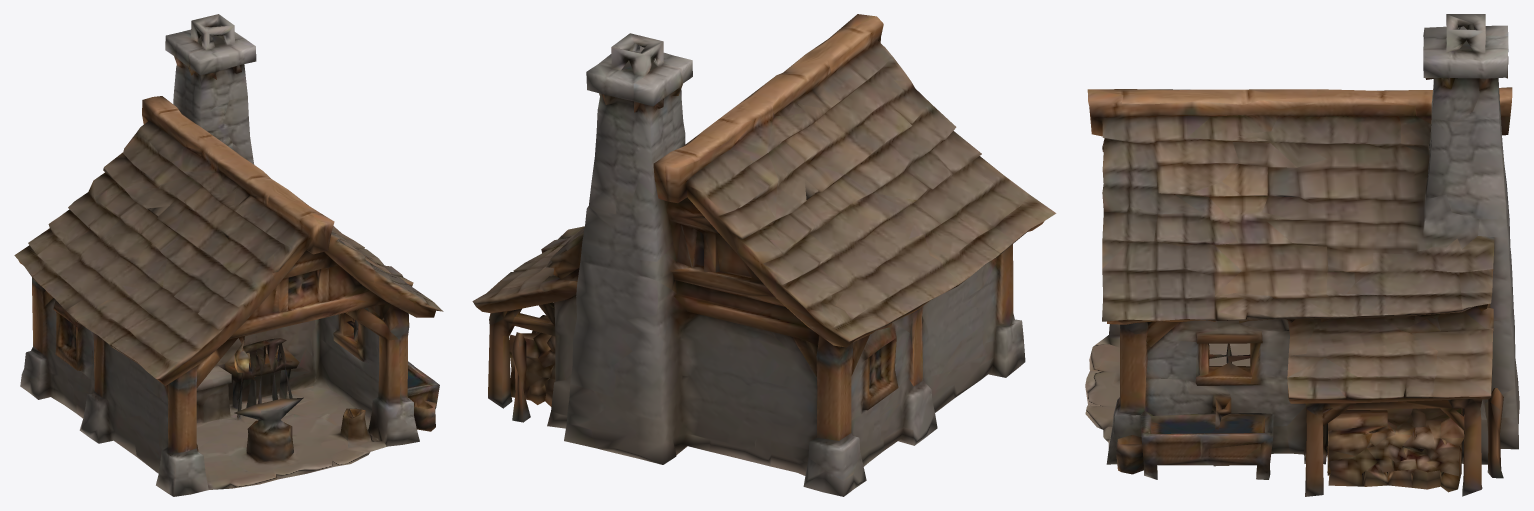
Rendered from village-forge.glb.
The picture shows the model from 3 angles, left to right: view 1: azimuth 30°, elevation 25°; view 2: azimuth 150°, elevation 25°; view 3: azimuth 270°, elevation 25°; orthographic projection. The views are drawn at different scales.
Parts seen in each view (by area): view 1: village-forge; view 2: village-forge; view 3: village-forge.
Part boxes in pixels (<box>): village-forge: <box>14,14,443,496</box>; village-forge: <box>472,14,1056,496</box>; village-forge: <box>1085,14,1519,496</box>.
Size of the model in its own units: 7.46 by 7 by 6.81.
Materials: 1 (1 with a texture image).
